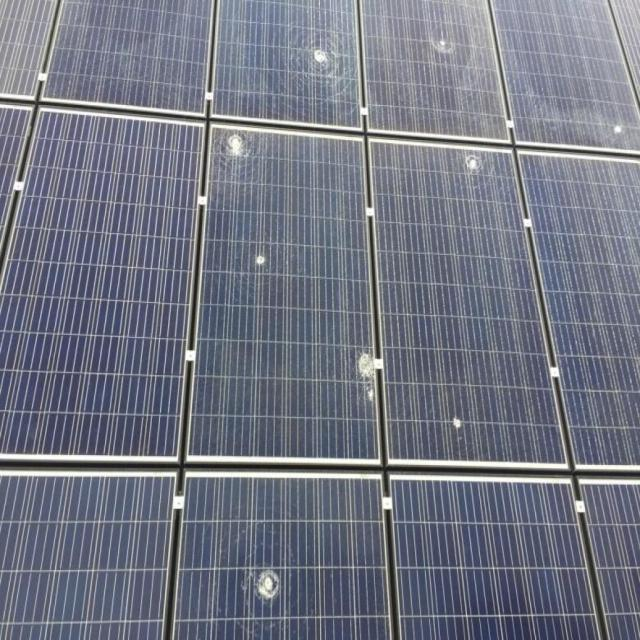cracked: (197, 128, 386, 466), (368, 142, 563, 466), (176, 477, 396, 640), (362, 0, 520, 144), (494, 0, 636, 150), (219, 0, 359, 128)
